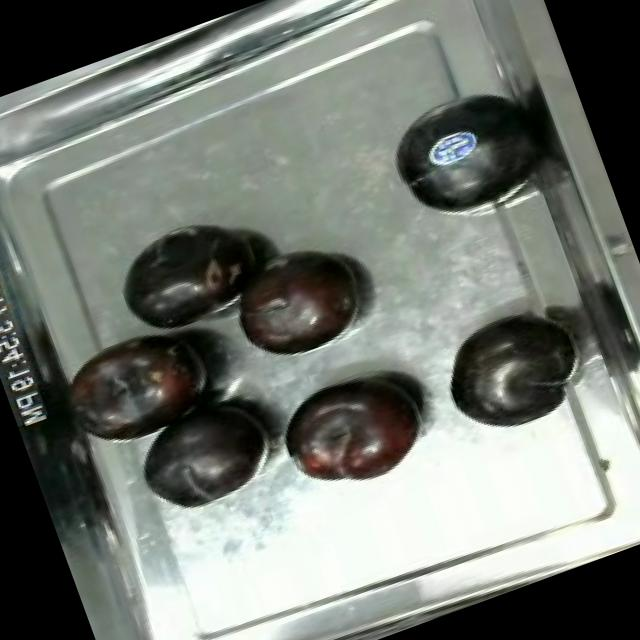Fruit: (365, 64, 561, 246), (263, 350, 446, 508), (212, 219, 386, 375), (425, 294, 595, 448), (54, 314, 229, 462), (120, 385, 286, 527)
